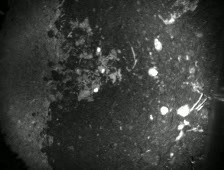corn: (152, 37, 164, 54), (147, 66, 159, 78), (96, 64, 107, 75), (91, 83, 101, 94), (93, 45, 102, 56)
